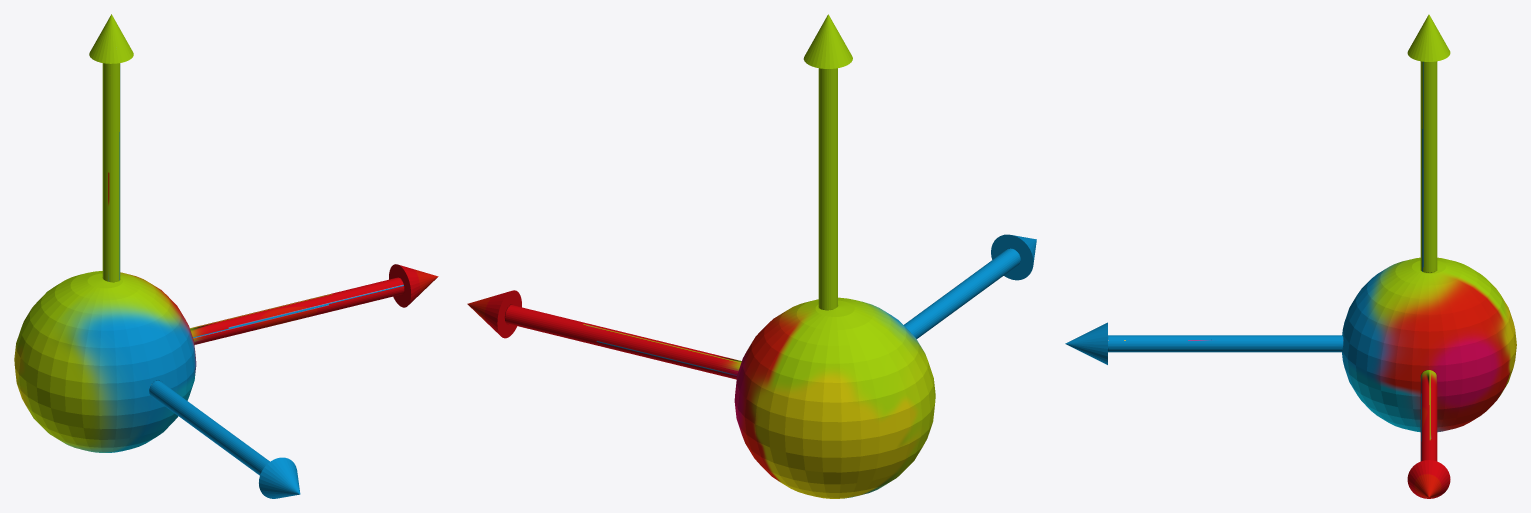
Rendered from psm3_target_ik.OBJ.
3 views of the same model, side by side, from view 1: azimuth 30°, elevation 25°; view 2: azimuth 150°, elevation 25°; view 3: azimuth 270°, elevation 25° (orthographic). The views are drawn at different scales.
Parts seen in each view (by area): view 1: psm3_target_ik_/ambf/env/psm3/target_ik; view 2: psm3_target_ik_/ambf/env/psm3/target_ik; view 3: psm3_target_ik_/ambf/env/psm3/target_ik.
Part boxes in pixels (x1,y1,x2,y2): psm3_target_ik_/ambf/env/psm3/target_ik: (14,14,438,498); psm3_target_ik_/ambf/env/psm3/target_ik: (467,14,1036,498); psm3_target_ik_/ambf/env/psm3/target_ik: (1065,14,1516,498).
Size of the model in its own units: 0.0624 by 0.0621 by 0.0615.
Materials: 1 (1 with a texture image).
